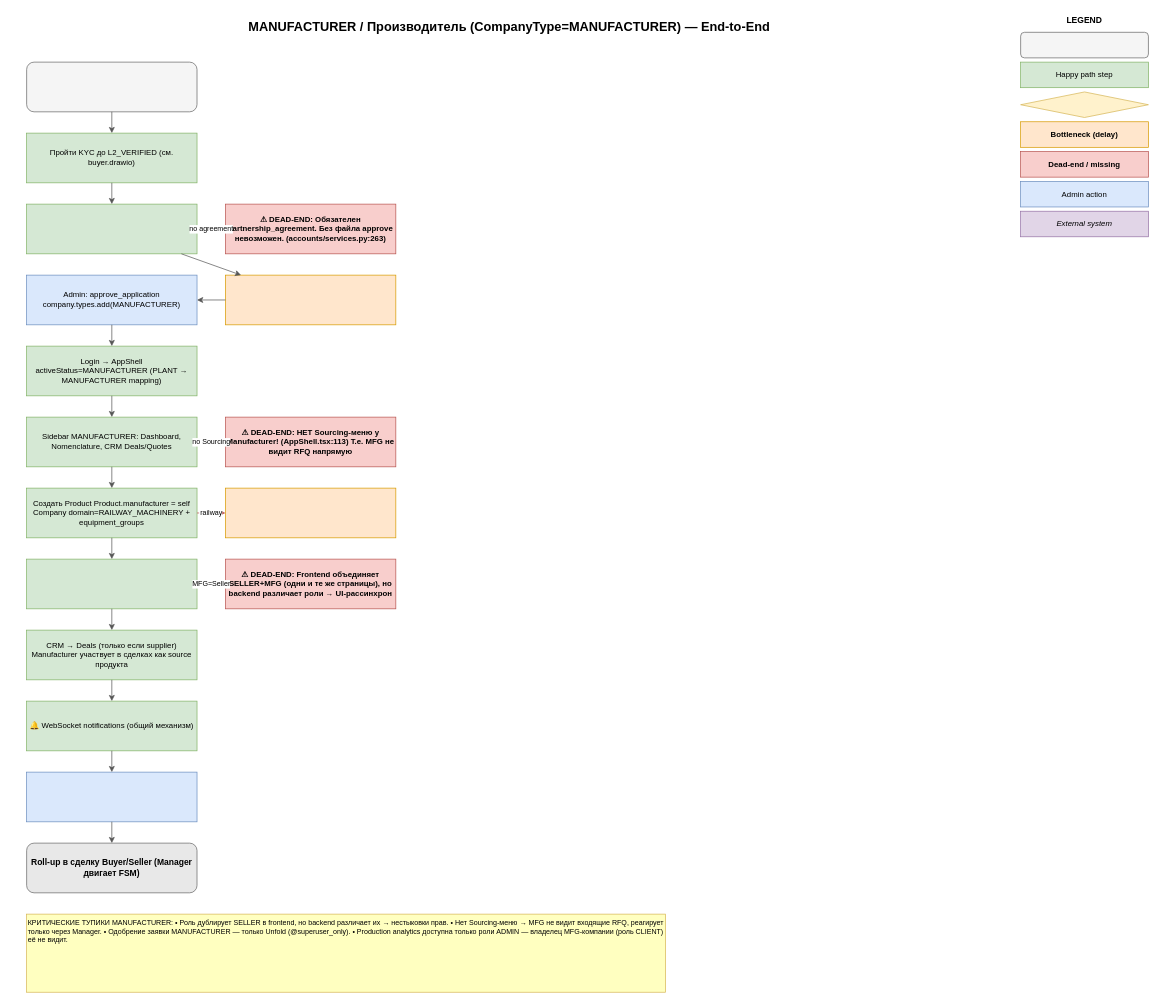
Some shapes in this 1161 by 1005 pixel diagram are drawn without their labels. The centre of each missing label's shape, as x and y in pixels:
CompanyRoleApplication (requested_type=MANUFACTURER, partnership_agreement): (x=111, y=228)
Decision / gate: (x=1084, y=104)
Production Analytics (только role=ADMIN/MANAGER) AppShell.tsx:127: (x=111, y=796)
Start / Terminal: (x=1084, y=45)
SupplierOffer от имени MFG (двойственная роль: manufacturer + supplier): (x=111, y=583)
Старт Регистрация как BUYER (type=CLIENT по умолчанию): (x=111, y=86)
⏳ BOTTLENECK: Ожидание approve через Unfold (superuser_only_action): (x=310, y=299)
⏳ Требование: ≥1 EquipmentGroup для RAILWAY_MACHINERY (models.py:309): (x=310, y=512)
